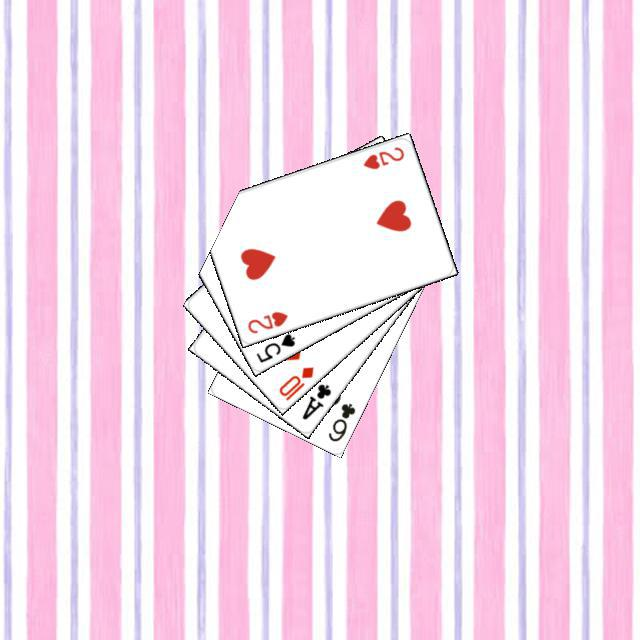10d: (274, 362, 316, 402)
2h: (358, 142, 406, 171), (243, 306, 289, 335)
5s: (251, 329, 297, 364)
6c: (323, 398, 357, 443)
Ac: (297, 379, 333, 422)
